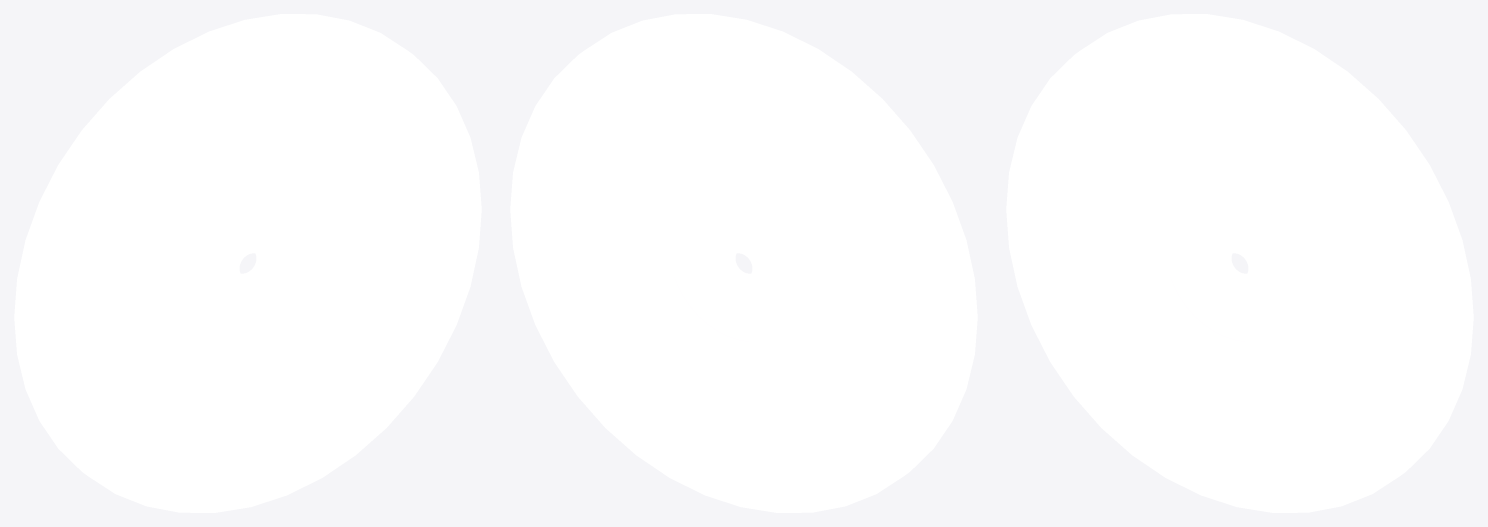
File: record.gltf
3 renders of one model, left to right at view 1: azimuth 30°, elevation 25°; view 2: azimuth 150°, elevation 25°; view 3: azimuth 330°, elevation 25°, orthographic.
Visible parts, largest first — view 1: pCylinder5; view 2: pCylinder5; view 3: pCylinder5.
Part boxes in pixels (<box>): pCylinder5: <box>14,14,481,512</box>; pCylinder5: <box>510,14,977,512</box>; pCylinder5: <box>1006,14,1473,512</box>.
Size of the model in its own units: 91.46 by 91.46 by 2.57.
1 material, 1 textured.
